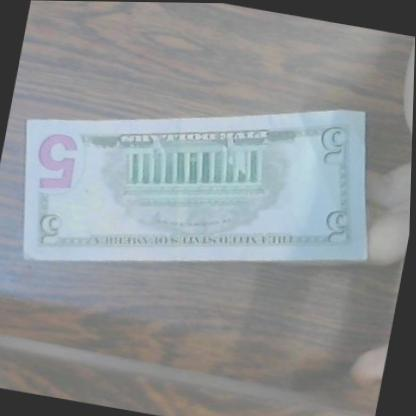five-back: (0, 58, 397, 322)
